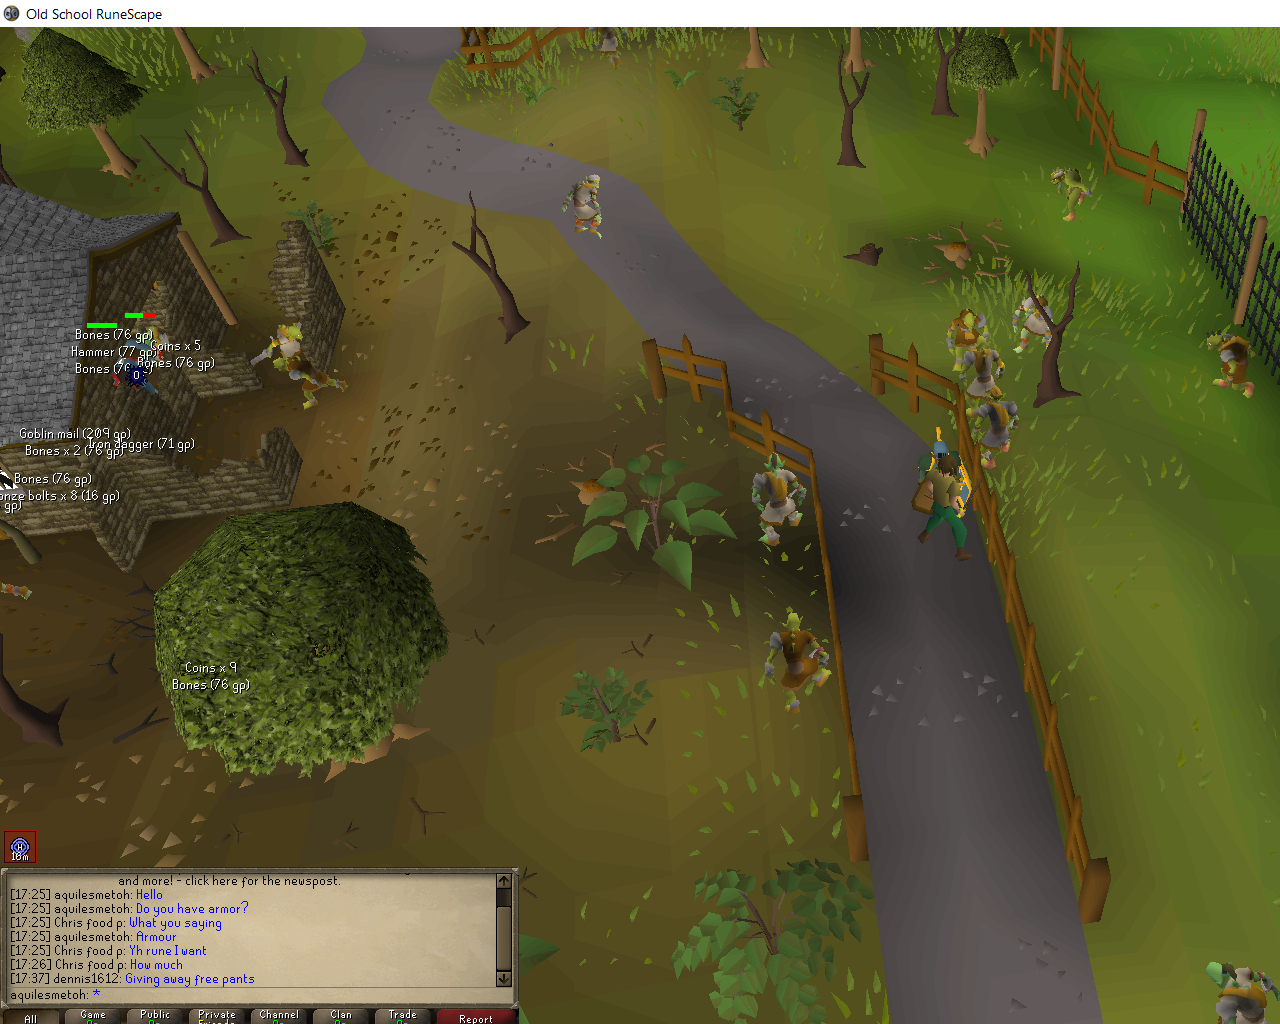Goblin: (753, 608, 844, 718), (747, 448, 813, 550), (965, 386, 1035, 471), (1198, 322, 1265, 403), (271, 352, 352, 410), (954, 340, 1013, 414), (555, 172, 613, 246), (1005, 289, 1066, 357), (937, 302, 995, 372), (257, 318, 318, 381), (1049, 164, 1093, 227)
